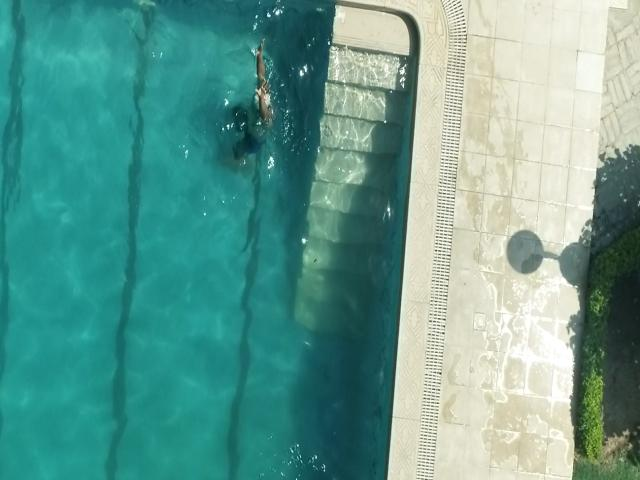drowning: (222, 22, 282, 180)
